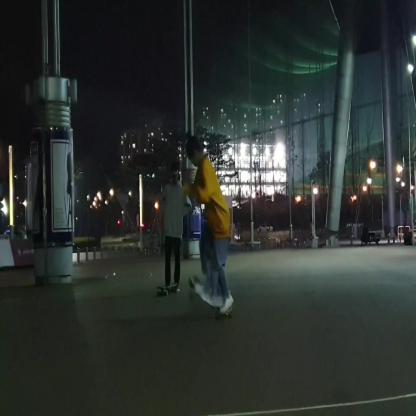Fall_Down: (183, 132, 238, 318)
